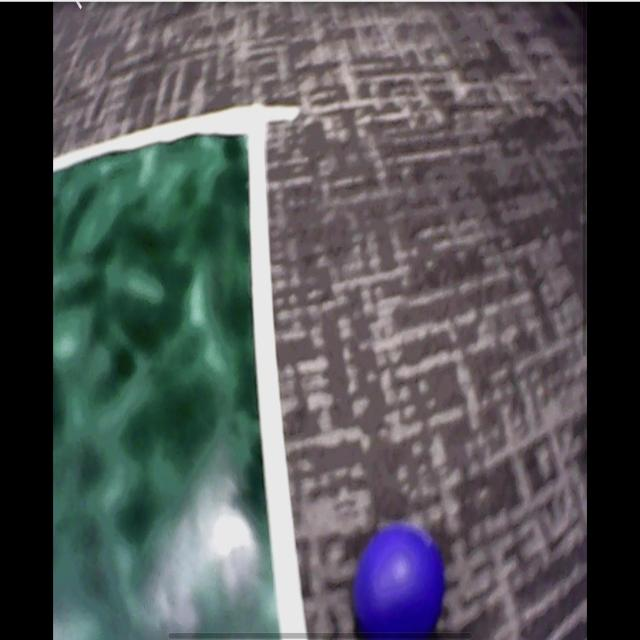ball: (354, 524, 444, 639)
